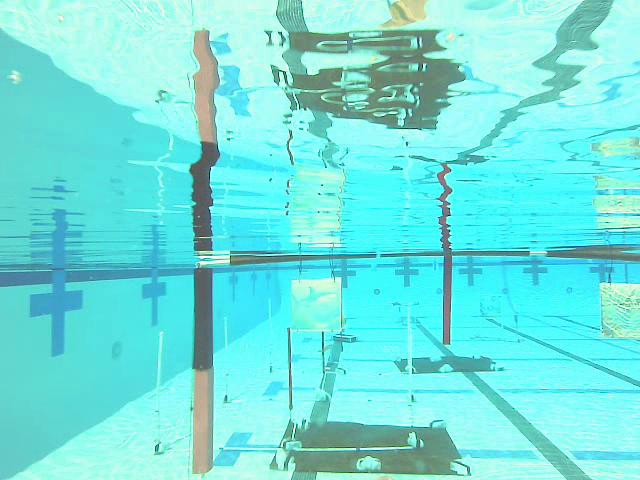black_poster: (287, 328, 291, 410)
divider: (443, 252, 451, 344)
left_gate_poster: (193, 268, 212, 473)
shark: (291, 279, 340, 330)
white_poster: (154, 331, 163, 454), (406, 304, 412, 402), (223, 317, 228, 402)
